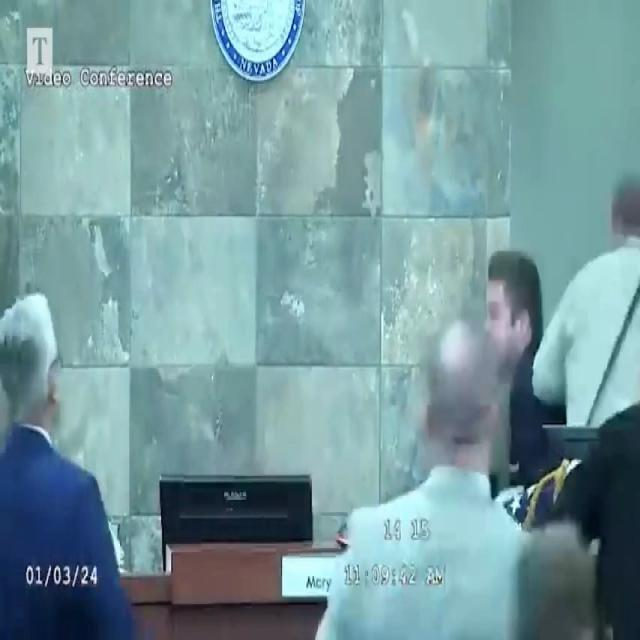fight: (483, 174, 640, 466)
non-fight: (0, 278, 133, 640)
